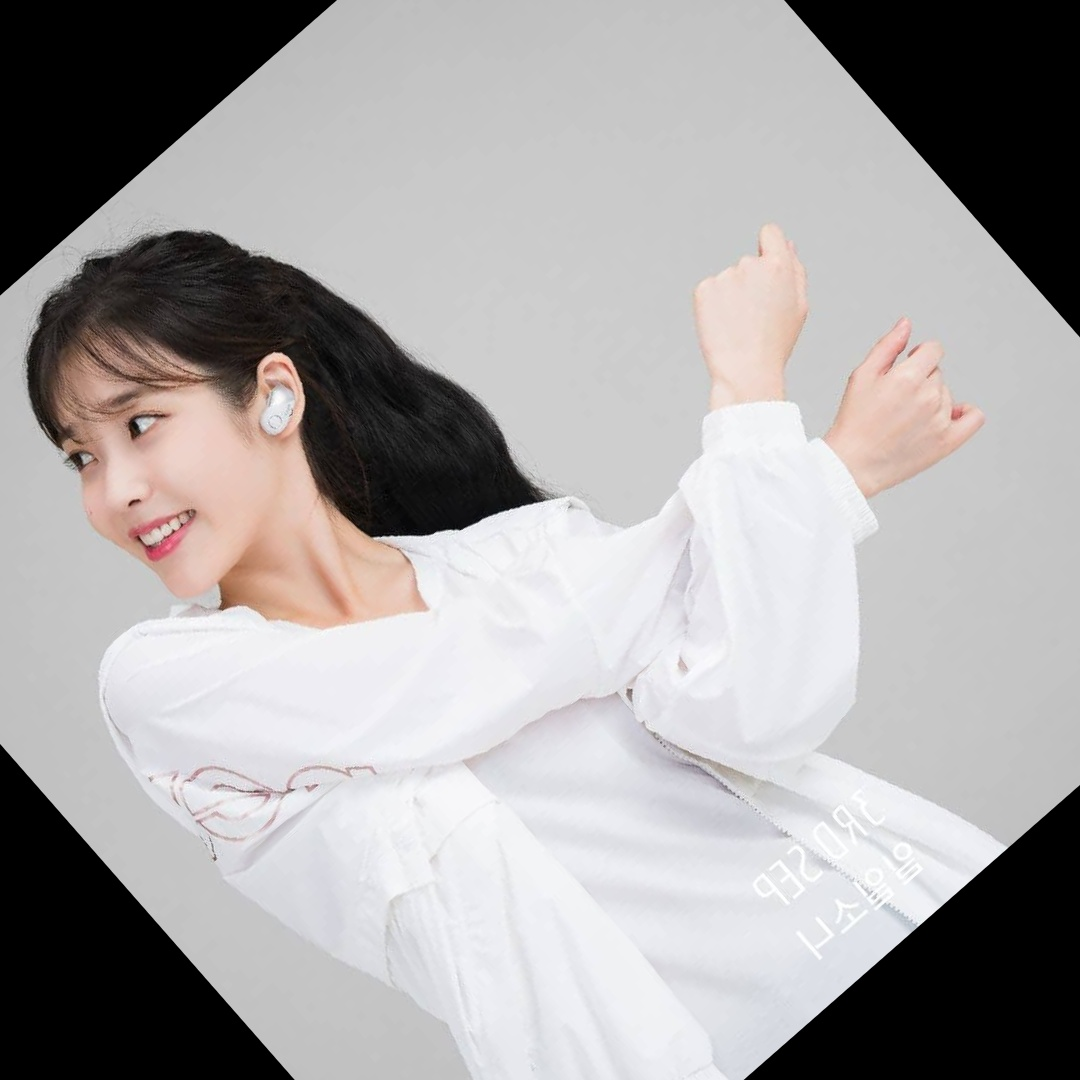earphone: (227, 344, 329, 447)
